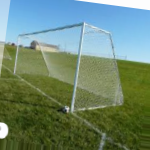goals: (13, 22, 126, 115)
